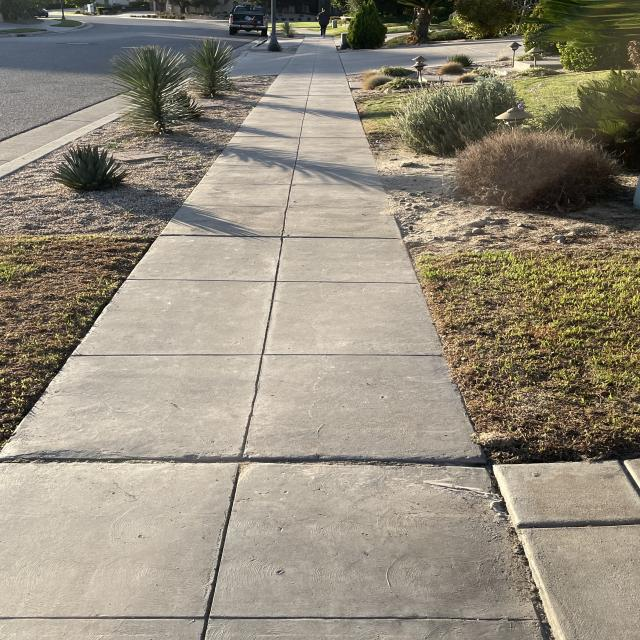curb: (6, 116, 90, 171), (51, 89, 147, 135)
walkway: (6, 464, 498, 640), (70, 356, 445, 492), (136, 270, 420, 413), (201, 184, 387, 308), (243, 123, 362, 215), (273, 86, 350, 202), (279, 51, 355, 122)
walkway-edge: (411, 243, 575, 640), (368, 144, 436, 282), (34, 332, 91, 416), (104, 230, 162, 304), (246, 75, 284, 134), (193, 132, 238, 173)
